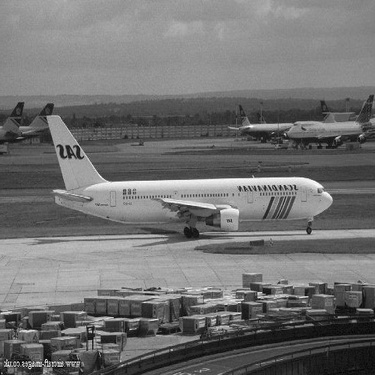airplane: (31, 110, 339, 245), (207, 94, 328, 135), (291, 103, 370, 154), (131, 94, 132, 95)
